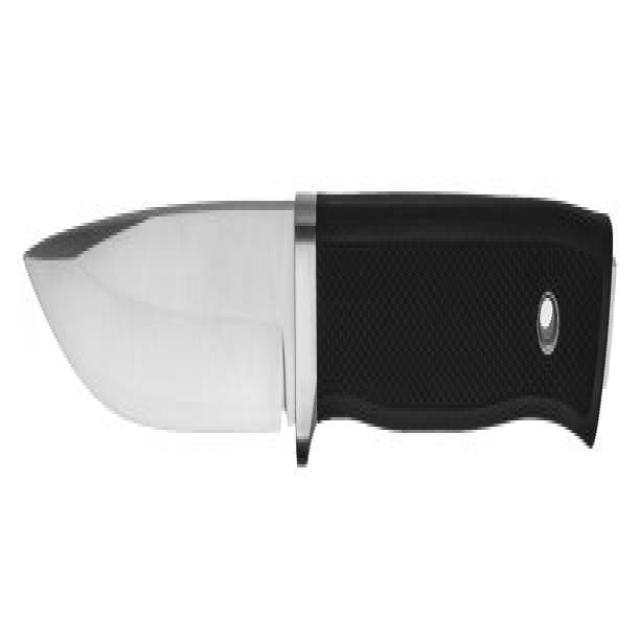knife: (18, 158, 620, 494)
